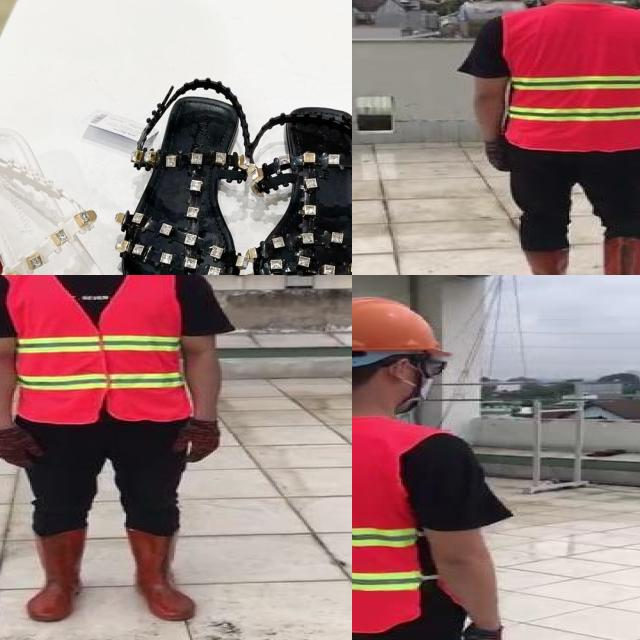Sandals: (98, 55, 352, 275), (0, 123, 179, 275)
boots: (21, 527, 87, 623), (130, 528, 196, 621), (521, 247, 576, 275), (602, 236, 640, 275)
hand_glove: (174, 422, 220, 463), (0, 424, 42, 468), (482, 139, 512, 173), (459, 625, 502, 640)
head_helmet: (352, 294, 464, 361)
person: (0, 275, 236, 633), (352, 286, 523, 640), (459, 0, 640, 275)
vest: (3, 275, 188, 424), (501, 5, 640, 148), (352, 415, 434, 635)
